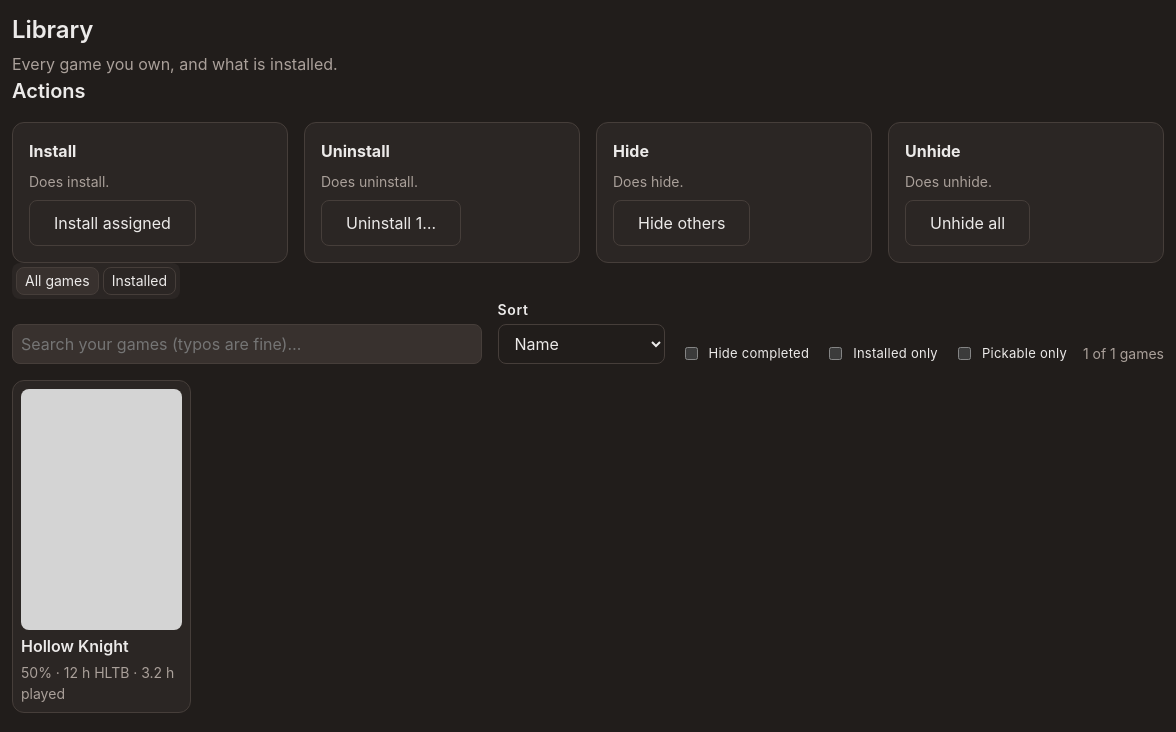
Test case: Library › switches to the installed table and back
The width and height of the screenshot is (1176, 732).
Expected: the text "1 of 1 games" is shown, [1083,342,1164,364]
Click the button "Installed".
click(139, 281)  # box [103,267,176,294]
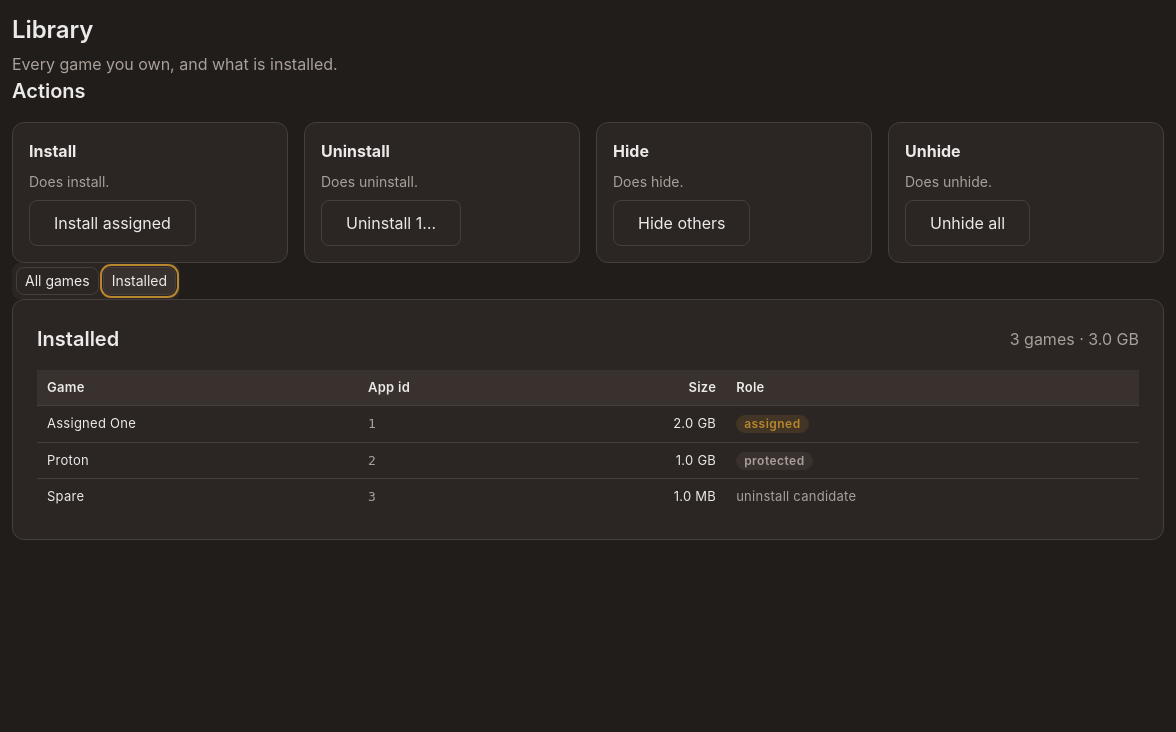
Expected: the element named "Installed games" is shown, [37,370,1139,514]
Expected: the text "3 games · 3.0 GB" is shown, [1010,326,1139,350]
Expected: the text "assigned" is shown, [736,416,809,434]
Click the button "All games".
click(57, 281)  # box [16,267,99,294]
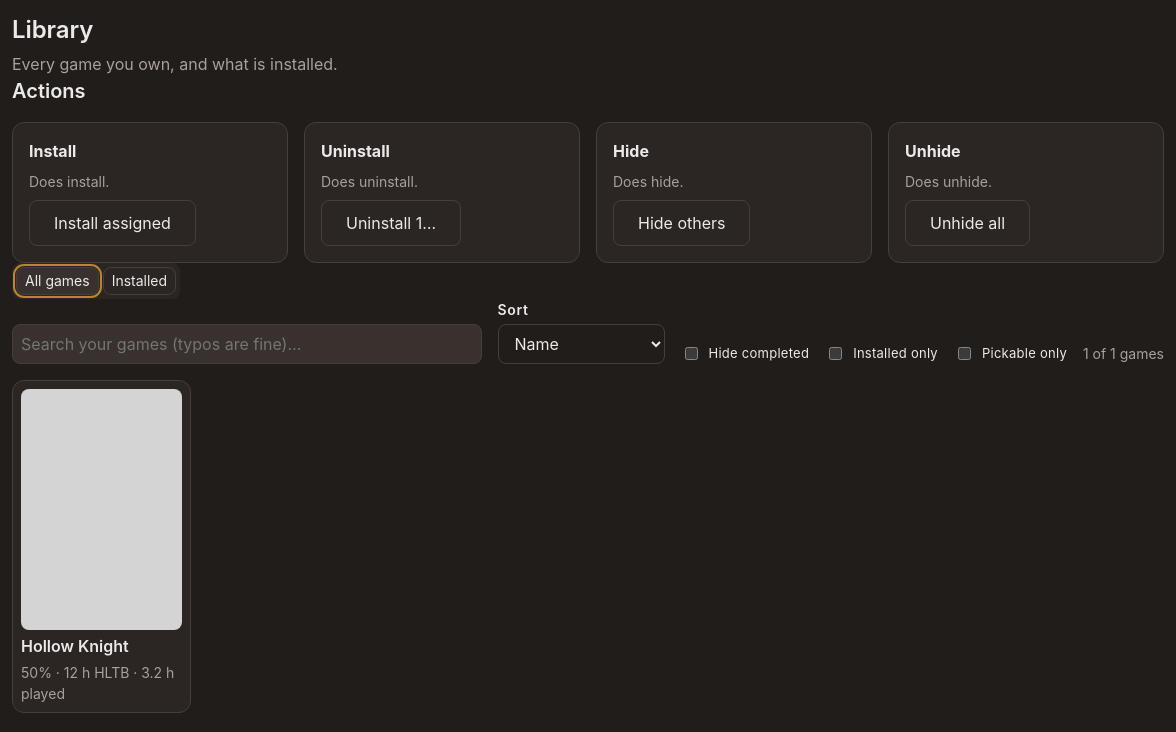
Expected: the text "1 of 1 games" is shown, [1083,342,1164,364]
